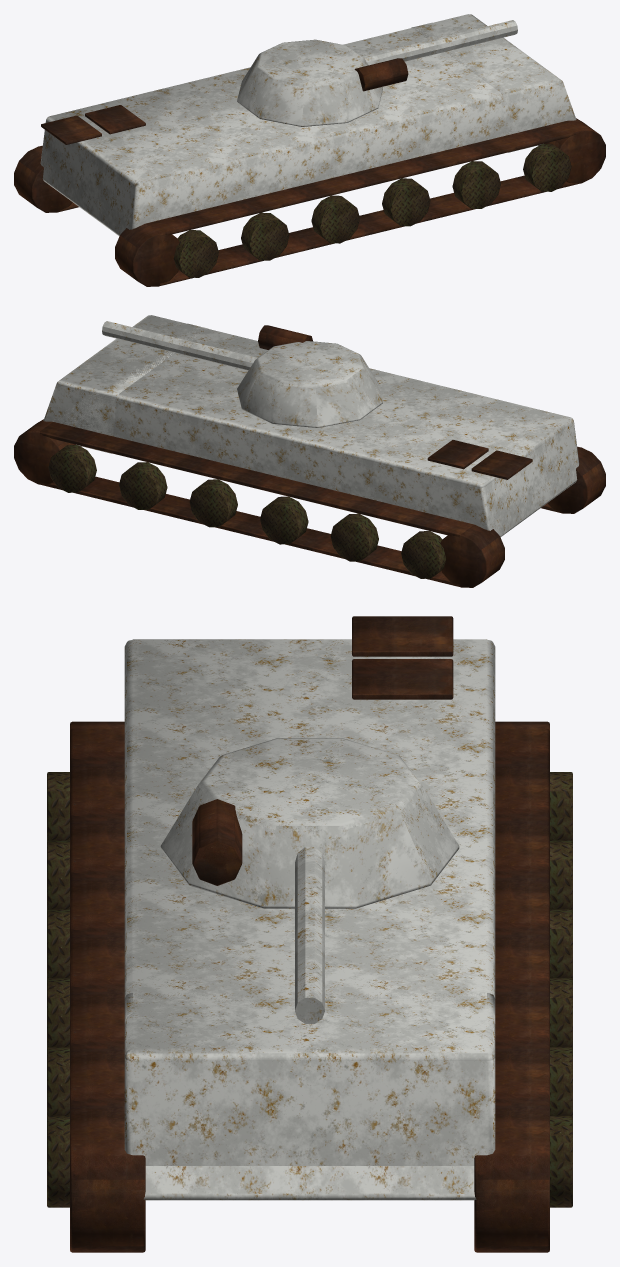
File: veh_bmp.gltf
3 renders of one model, top to bottom at view 1: azimuth 30°, elevation 25°; view 2: azimuth 150°, elevation 25°; view 3: azimuth 270°, elevation 25°, orthographic. The views are drawn at different scales.
Visible parts, largest first — view 1: box.004, cyl.016, box.001, box, cyl, cyl.017, cyl.001, cyl.008, cyl.004, cyl.005, cyl.003, cyl.006 (+6 smaller); view 2: box.004, cyl.016, box.003, box.002, cyl.008, cyl.017, box.005, cyl.009, cyl, cyl.012, cyl.013, cyl.011 (+6 smaller); view 3: box.004, cyl.016, box.001, box.003, box.005, cyl.009, cyl.001, cyl.017, box.007, box.006, cyl.018, cyl.007 (+11 smaller).
Part boxes in pixels (x1=…): box.004: x1=40, y1=14, x2=576, y2=236; cyl.016: x1=237, y1=39, x2=382, y2=126; box.001: x1=146, y1=121, x2=579, y2=236; box: x1=160, y1=175, x2=579, y2=285; cyl: x1=115, y1=223, x2=179, y2=286; cyl.017: x1=362, y1=20, x2=517, y2=65; cyl.001: x1=538, y1=118, x2=605, y2=183; cyl.008: x1=14, y1=146, x2=72, y2=212; cyl.004: x1=311, y1=195, x2=359, y2=243; cyl.005: x1=382, y1=178, x2=430, y2=226; cyl.003: x1=241, y1=212, x2=289, y2=260; cyl.006: x1=452, y1=161, x2=500, y2=208; box.004: x1=43, y1=315, x2=579, y2=537; cyl.016: x1=237, y1=341, x2=382, y2=427; box.003: x1=40, y1=422, x2=473, y2=537; box.002: x1=40, y1=476, x2=459, y2=586; cyl.008: x1=440, y1=524, x2=504, y2=587; cyl.017: x1=102, y1=321, x2=257, y2=370; box.005: x1=52, y1=323, x2=208, y2=453; cyl.009: x1=14, y1=419, x2=81, y2=484; cyl: x1=547, y1=447, x2=605, y2=513; cyl.012: x1=260, y1=496, x2=308, y2=544; cyl.013: x1=189, y1=479, x2=237, y2=527; cyl.011: x1=330, y1=513, x2=378, y2=561; box.004: x1=124, y1=639, x2=495, y2=1165; cyl.016: x1=160, y1=738, x2=459, y2=908; box.001: x1=70, y1=728, x2=124, y2=1140; box.003: x1=495, y1=728, x2=549, y2=1140; box.005: x1=124, y1=993, x2=495, y2=1200; cyl.009: x1=474, y1=1139, x2=549, y2=1252; cyl.001: x1=70, y1=1139, x2=145, y2=1252; cyl.017: x1=295, y1=846, x2=324, y2=1023; box.007: x1=352, y1=659, x2=453, y2=699; box.006: x1=352, y1=616, x2=453, y2=656; cyl.018: x1=192, y1=799, x2=242, y2=885; cyl.007: x1=47, y1=1116, x2=69, y2=1207.
Size of the model in its own units: 6.48 by 1.75 by 3.12.
3 materials, 3 textured.
